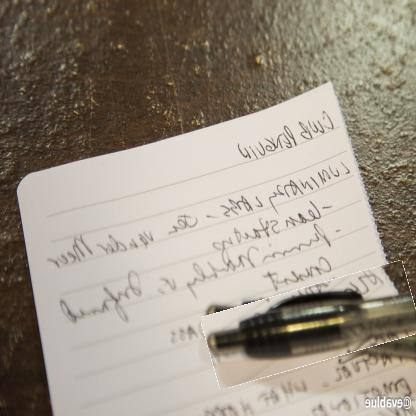Pen: (202, 273, 415, 377)
